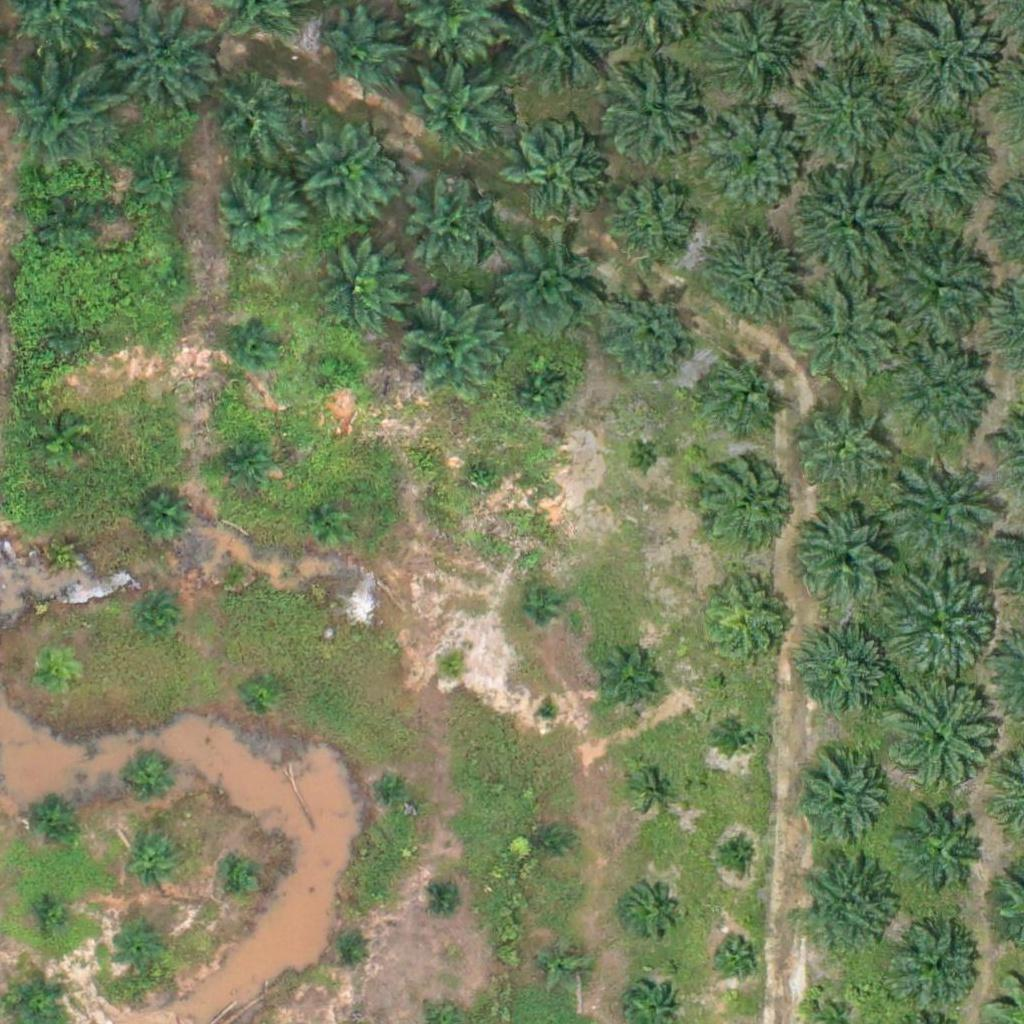Kelapa_Sawit: (786, 160, 911, 286), (783, 53, 908, 179), (884, 4, 1009, 130), (877, 224, 1002, 350), (875, 561, 1000, 686), (875, 680, 1000, 805), (106, 5, 219, 118), (497, 233, 610, 346), (882, 117, 995, 230), (884, 338, 997, 451), (881, 456, 994, 569), (1, 57, 113, 170), (786, 283, 898, 396), (404, 57, 504, 158), (299, 126, 399, 227), (203, 63, 303, 164), (505, 124, 605, 225), (602, 72, 702, 173), (706, 110, 806, 211), (702, 235, 802, 336), (788, 389, 888, 490), (799, 506, 899, 607), (796, 625, 896, 726), (793, 753, 893, 854), (691, 344, 791, 445), (693, 450, 793, 551), (698, 571, 798, 672), (404, 298, 504, 399), (801, 855, 901, 956), (307, 238, 407, 338), (319, 11, 407, 99), (406, 181, 494, 269), (709, 15, 797, 103), (893, 921, 981, 1009), (900, 808, 988, 896), (217, 178, 304, 267), (606, 289, 693, 378), (605, 182, 692, 270), (593, 652, 656, 715), (133, 146, 195, 209), (37, 415, 87, 466), (134, 495, 184, 546), (29, 652, 79, 703), (124, 753, 174, 804), (512, 366, 562, 417), (623, 882, 673, 933), (539, 939, 589, 990), (42, 524, 92, 575), (22, 792, 72, 842), (129, 837, 179, 887), (115, 923, 165, 973), (44, 204, 94, 254), (712, 929, 762, 979), (218, 440, 268, 490), (231, 317, 281, 367), (529, 824, 567, 862), (321, 352, 359, 390), (312, 503, 350, 541), (464, 459, 502, 497), (626, 440, 664, 478), (432, 649, 470, 687), (34, 894, 72, 932), (723, 718, 761, 756), (222, 861, 259, 899), (717, 835, 754, 873), (635, 768, 672, 806), (429, 879, 467, 916), (50, 319, 87, 357), (155, 264, 192, 302), (516, 588, 553, 626), (213, 549, 250, 587), (139, 599, 176, 636), (327, 927, 364, 964), (244, 672, 281, 709), (375, 770, 412, 807), (535, 698, 560, 723)
